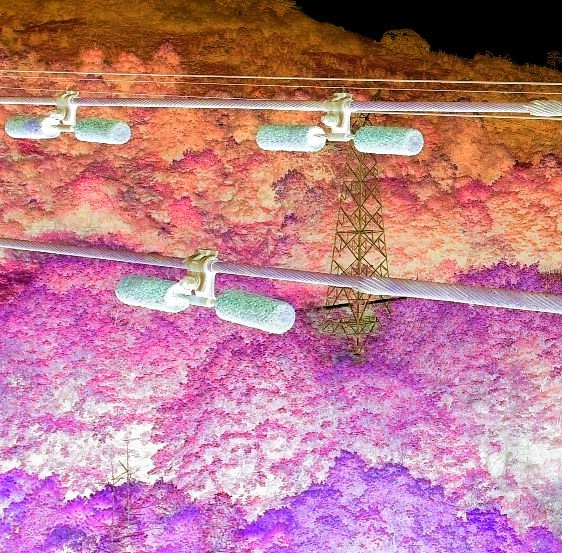Shockproof hammer: (106, 238, 300, 339), (249, 83, 435, 159), (1, 84, 134, 153)
